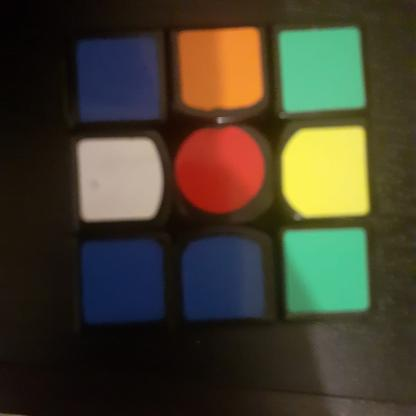cube: (64, 19, 390, 331)
